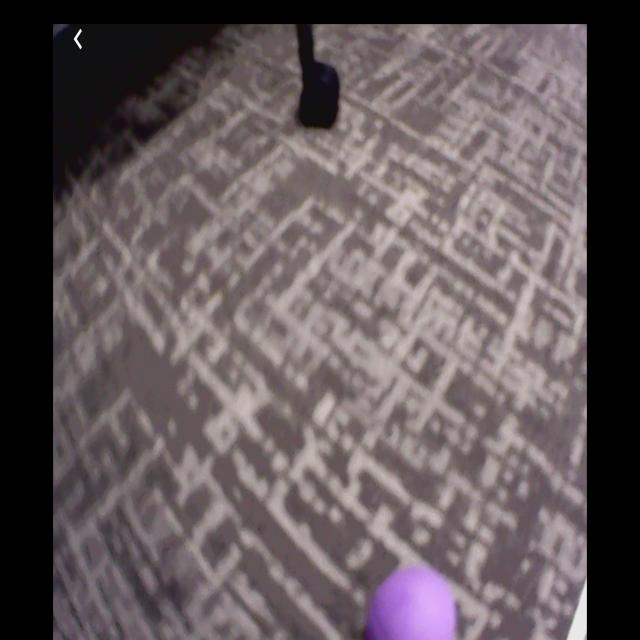ball: (364, 565, 459, 640)
